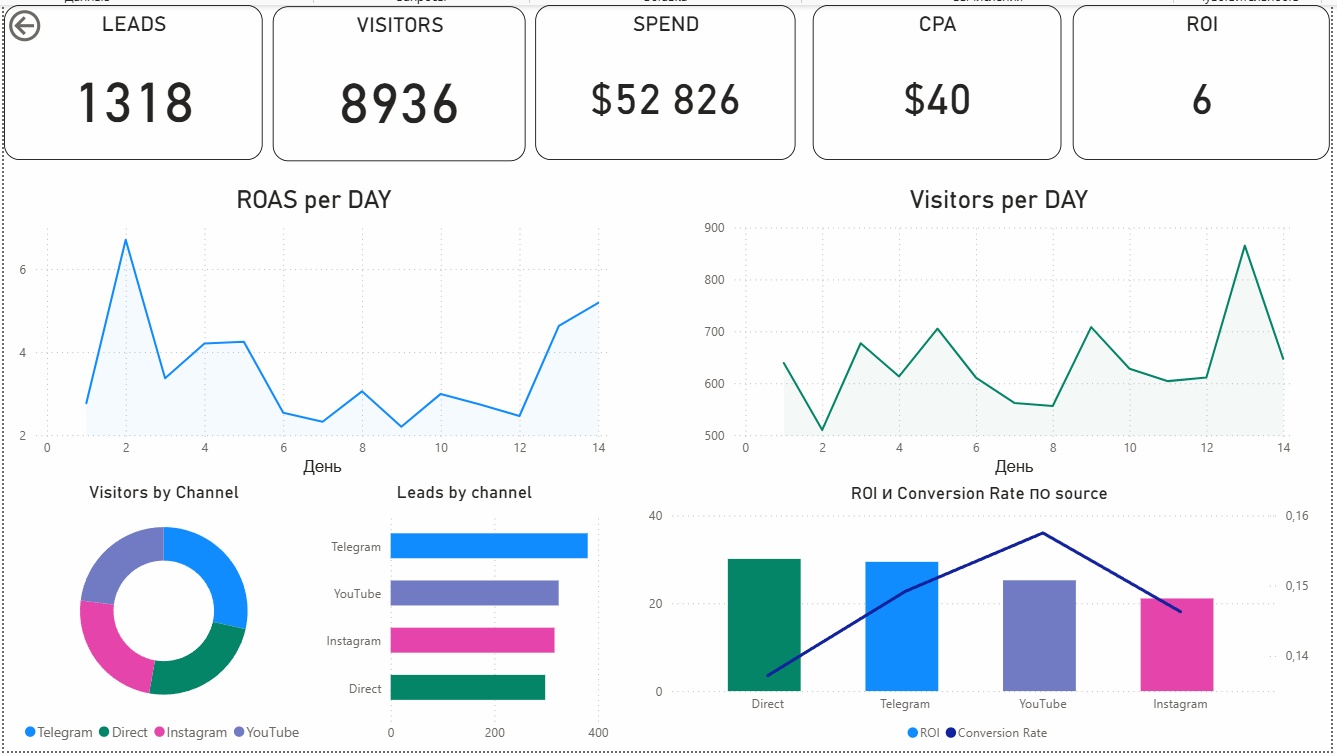

Layout of this report page (visuals, bound fields, positions):
{"tool":"powerbi","page":{"name":"Страница 1","canvas":[1280,720],"ordinal":0},"visuals":[{"type":"card","title":"LEADS","fields":{"Values":["DateTable.Total Leads"]},"box":[0,0,249.7,149.6],"z":0},{"type":"card","title":"VISITORS","fields":{"Values":["marketing_summary.Total Sessions"]},"box":[259.3,1.4,244.3,149.6],"z":1000},{"type":"card","title":"SPEND","fields":{"Values":["DateTable.Ad Cost"]},"box":[513.2,0,251.1,149.6],"z":2000},{"type":"card","title":"CPA","fields":{"Values":["marketing_summary.CPA"]},"box":[780.8,0,240.1,149.6],"z":3000},{"type":"actionButton","box":[0,0,100,40],"z":4000},{"type":"stackedAreaChart","title":"ROAS per DAY","fields":{"Category":["DateTable.Date.Изменение.Иерархия дат.День"],"Y":["DateTable.ROAS"]},"box":[9.6,174.3,579.1,285.4],"z":5000},{"type":"stackedAreaChart","title":"Visitors per DAY","fields":{"Category":["DateTable.Date.Изменение.Иерархия дат.День"],"Y":["Sum(marketing_summary.sessions)"]},"box":[671,174.3,579.1,285.4],"z":6000},{"type":"donutChart","title":"Visitors by Channel","fields":{"Category":["marketing_summary.source"],"Y":["marketing_summary.Total Sessions"]},"box":[9.6,459.7,289.5,260.7],"z":7000},{"type":"barChart","title":"Leads by channel","fields":{"Category":["marketing_summary.source"],"Y":["Sum(marketing_summary.leads)"]},"box":[300.5,459.7,288.2,260.7],"z":8000},{"type":"lineClusteredColumnComboChart","fields":{"Category":["marketing_summary.source"],"Y":["marketing_summary.ROI"],"Y2":["marketing_summary.Conversion Rate"]},"box":[617.5,459.7,647.7,260.7],"z":8002},{"type":"card","title":"ROI","fields":{"Values":["marketing_summary.ROI"]},"box":[1031.9,0,248.4,149.6],"z":8003}]}

Visuals, with their boxes in screenshot pixels (x1, y1, x2, y2), scaled from the page's 1280x720 canvas onto the 1337x756 screenshot:
"LEADS" card: [x1=0, y1=0, x2=261, y2=157]
"VISITORS" card: [x1=271, y1=1, x2=526, y2=159]
"SPEND" card: [x1=536, y1=0, x2=798, y2=157]
"CPA" card: [x1=816, y1=0, x2=1066, y2=157]
actionButton: [x1=0, y1=0, x2=104, y2=42]
"ROAS per DAY" stackedAreaChart: [x1=10, y1=183, x2=615, y2=483]
"Visitors per DAY" stackedAreaChart: [x1=701, y1=183, x2=1306, y2=483]
"Visitors by Channel" donutChart: [x1=10, y1=483, x2=312, y2=755]
"Leads by channel" barChart: [x1=314, y1=483, x2=615, y2=755]
lineClusteredColumnComboChart - marketing_summary.source x marketing_summary.ROI: [x1=645, y1=483, x2=1322, y2=755]
"ROI" card: [x1=1078, y1=0, x2=1336, y2=157]
